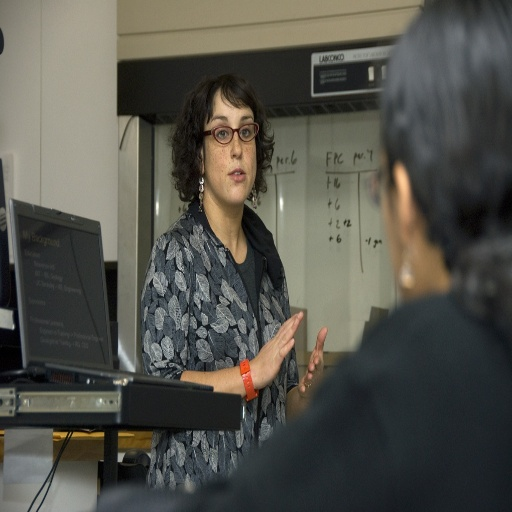hand: (245, 319, 296, 393), (295, 325, 327, 397)
